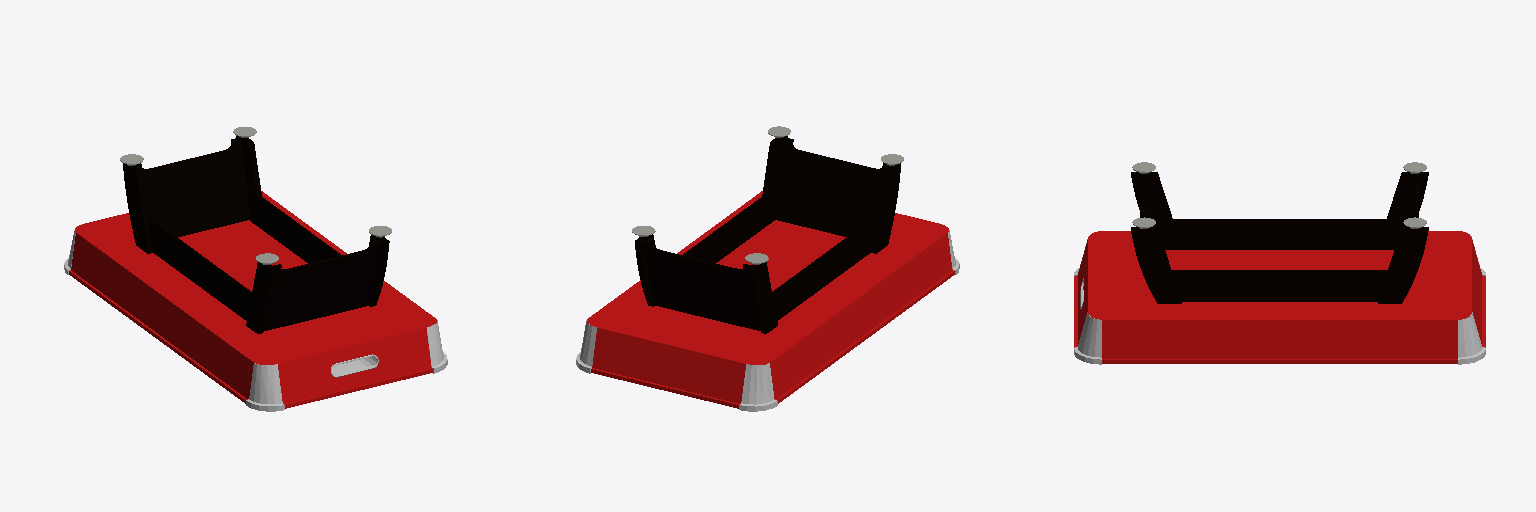
The model's file is pool-table.obj.
3 renders of one model, left to right at view 1: azimuth 30°, elevation 25°; view 2: azimuth 150°, elevation 25°; view 3: azimuth 270°, elevation 25°, orthographic.
Parts seen in each view (by area): view 1: Tabletop, Legs; view 2: Tabletop, Legs; view 3: Tabletop, Legs.
Boxes of the visible parts, x1=… form: Tabletop: x1=64, y1=191, x2=447, y2=411; Legs: x1=120, y1=127, x2=391, y2=333; Tabletop: x1=576, y1=191, x2=959, y2=411; Legs: x1=632, y1=126, x2=903, y2=333; Tabletop: x1=1074, y1=231, x2=1485, y2=364; Legs: x1=1131, y1=162, x2=1428, y2=303.
Bounding box in the file's own units: 1.38 × 0.8168 × 2.5.